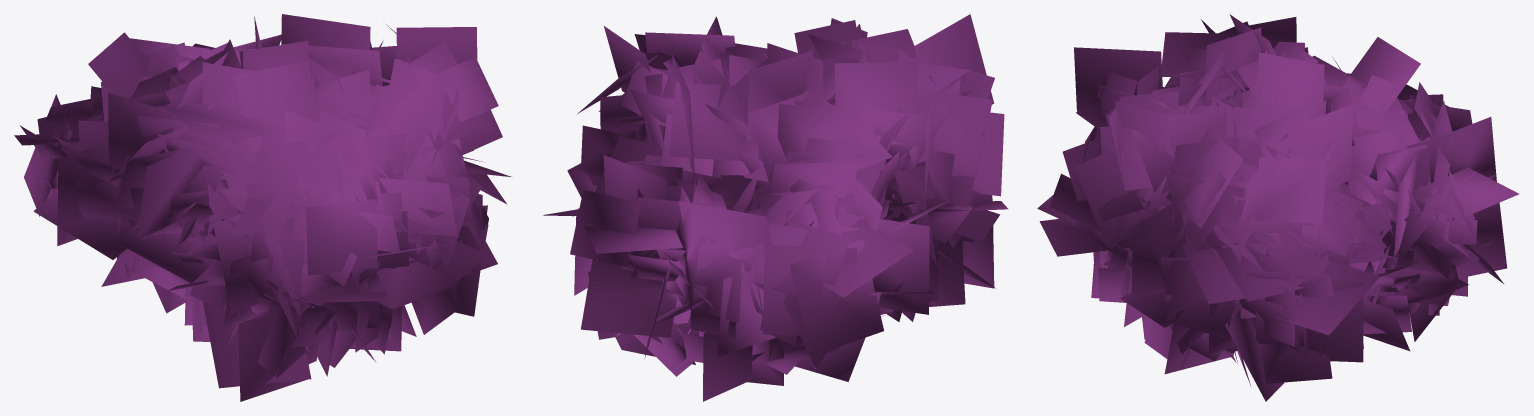
File: AlienBush2.fbx
The picture shows the model from 3 angles, left to right: view 1: azimuth 30°, elevation 25°; view 2: azimuth 150°, elevation 25°; view 3: azimuth 270°, elevation 25°; orthographic projection. The views are drawn at different scales.
Visible parts, largest first — view 1: Bush.001; view 2: Bush.001; view 3: Bush.001.
Boxes of the visible parts, x1,y1,x2,y2 form: Bush.001: (14,14,512,401); Bush.001: (543,14,1008,401); Bush.001: (1037,14,1519,401).
Size of the model in its own units: 0.941 by 0.6017 by 1.04.
